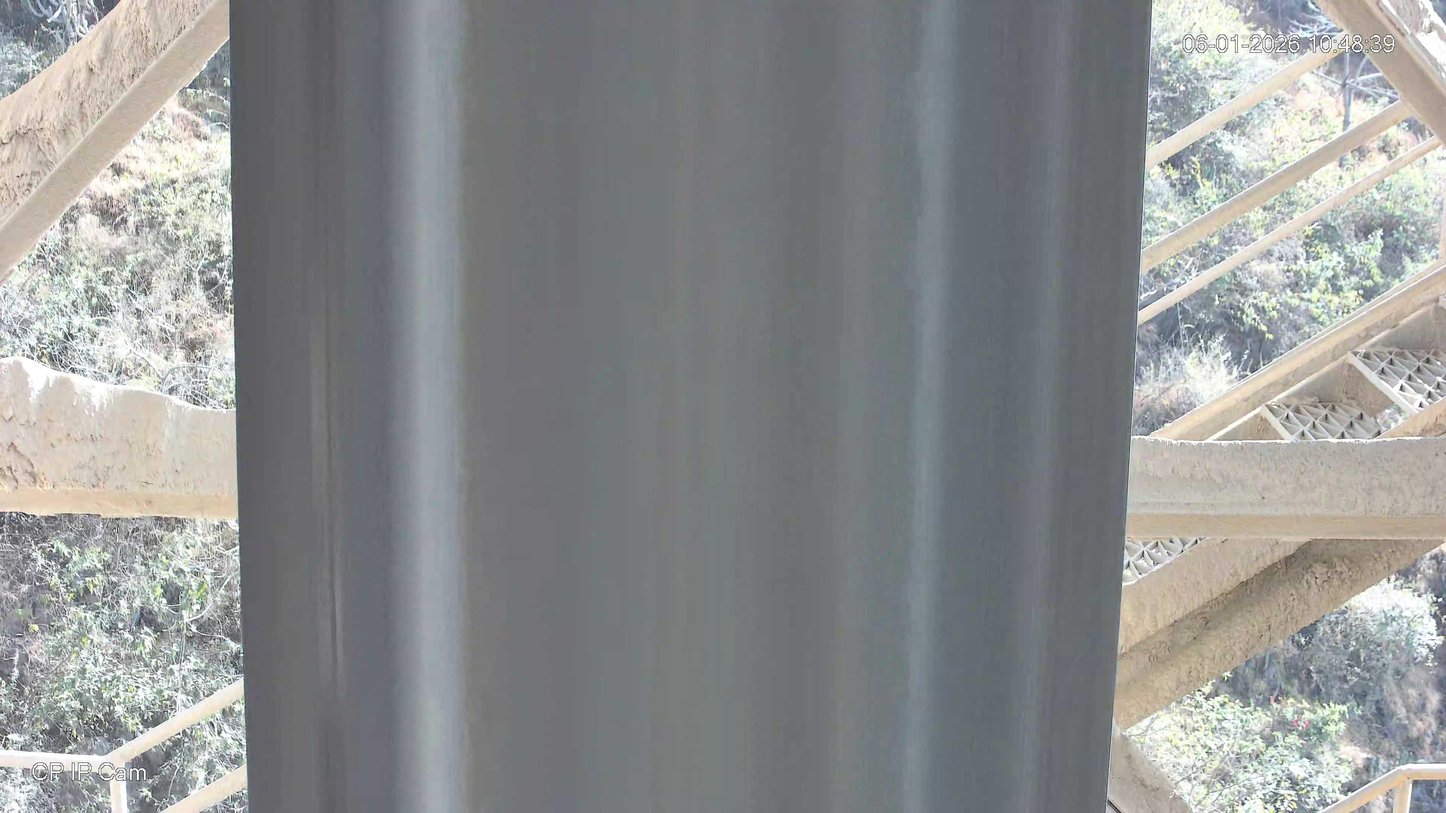belt_roi: (231, 0, 1154, 813)
